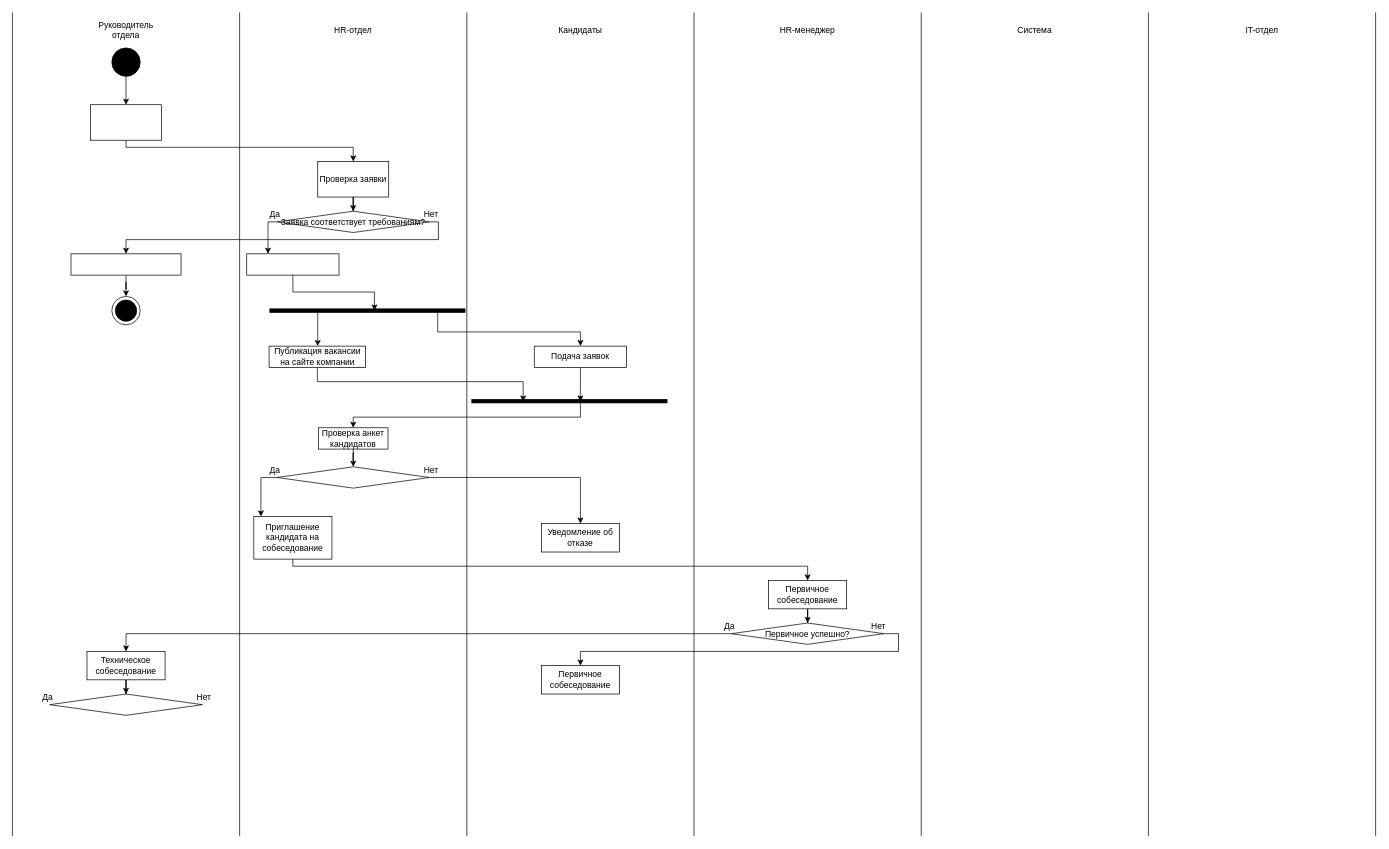
Some shapes in this 1389 by 849 pixel diagram are drawn without their labels. Each missing label, with the centre of its shape:
"Анкета подходит?" goes at (353,477).
"Получение уведомления о доработке" goes at (125,264).
"Создание заявки на вакансию" goes at (126,122).
"Техническое успешно?" goes at (125,704).
"Утверждение заявки" goes at (292,264).
